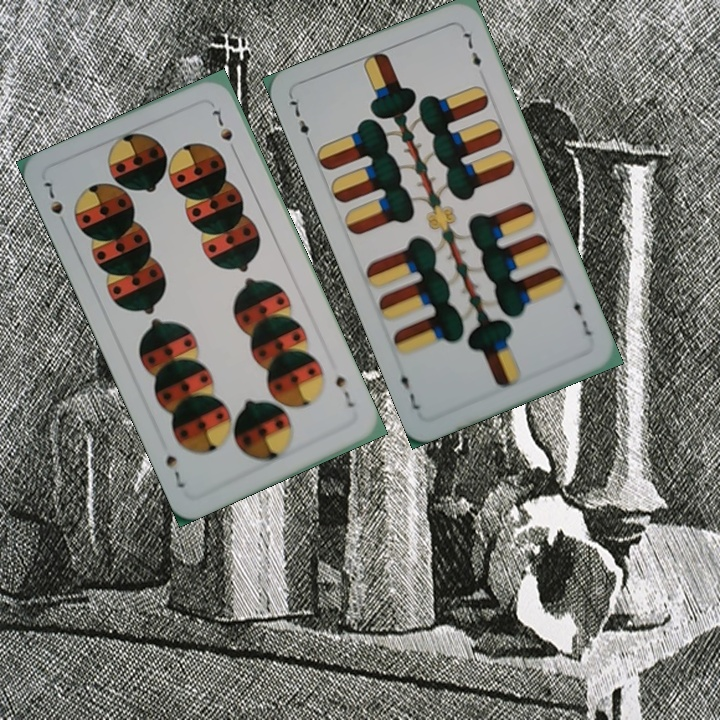E7: (286, 92, 315, 149), (569, 291, 594, 339)
S7: (40, 177, 70, 232), (331, 372, 357, 410)
